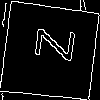Z: (25, 25, 76, 61)
